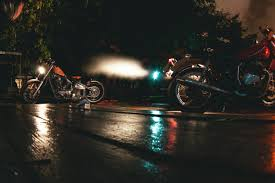motorcycle: (163, 26, 275, 111), (12, 58, 106, 105)
